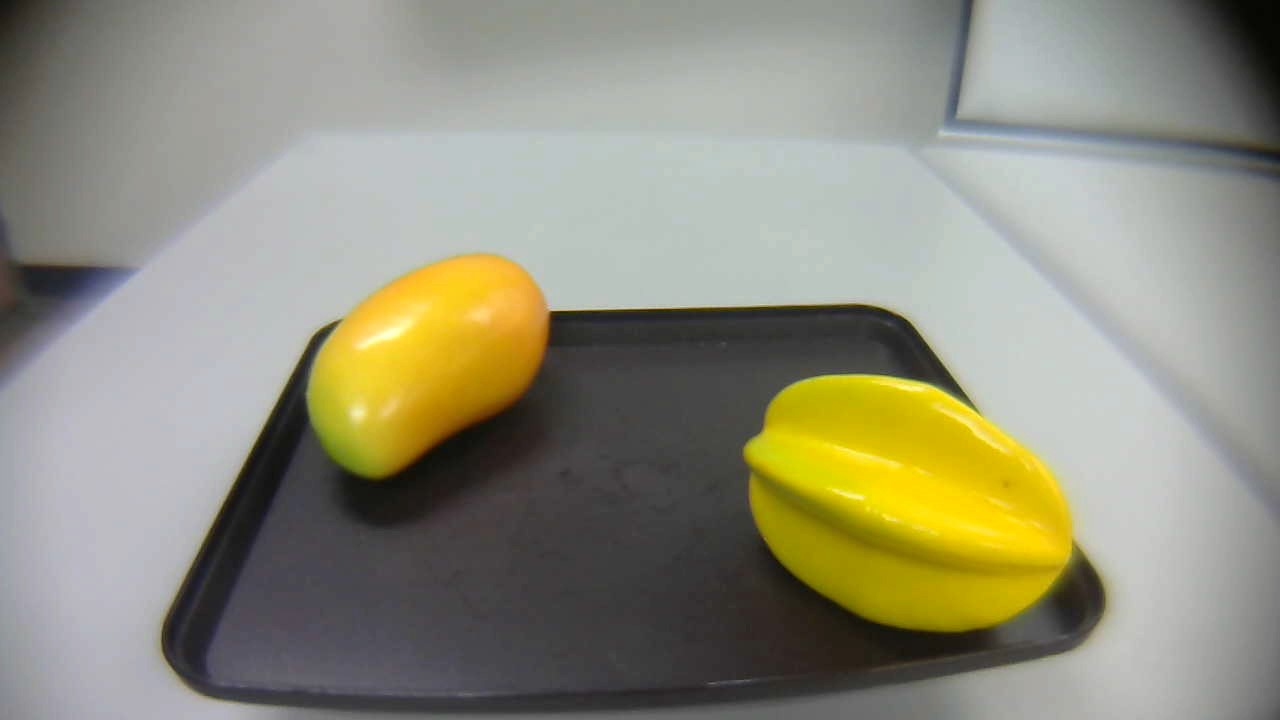star fruit: (734, 347, 1080, 650)
yellow mango: (294, 243, 565, 487)
